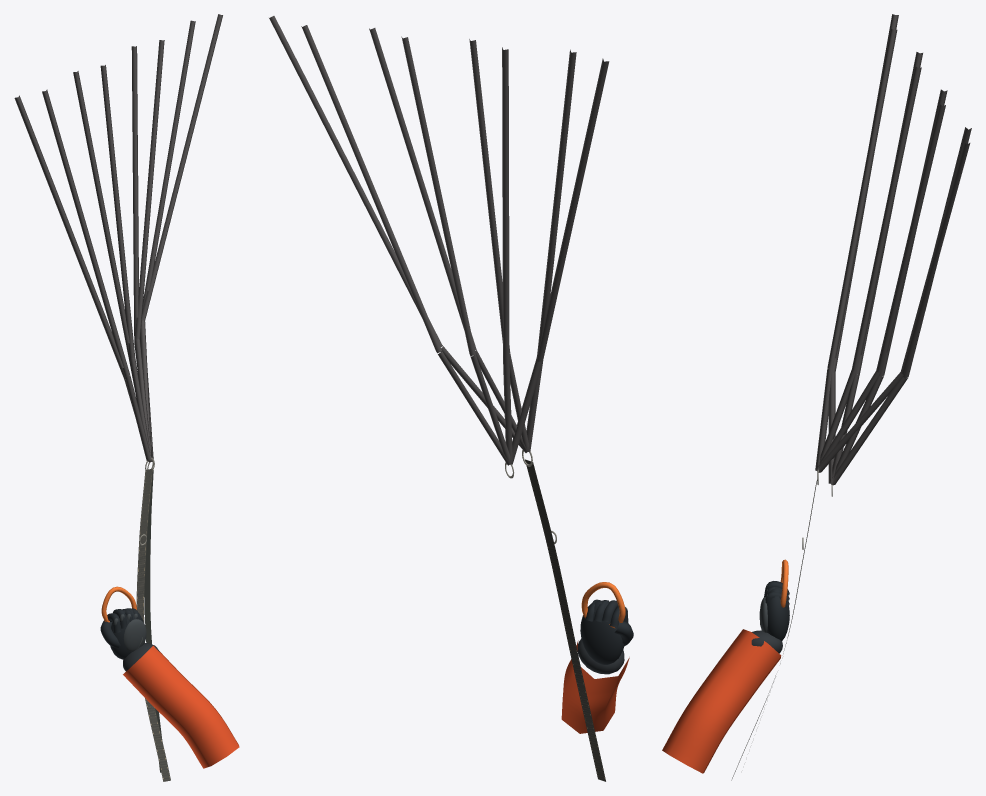
Rendered from RightRiser.glb.
3 renders of one model, left to right at view 1: azimuth 30°, elevation 25°; view 2: azimuth 150°, elevation 25°; view 3: azimuth 270°, elevation 25°, orthographic. The views are drawn at different scales.
Parts seen in each view (by area): view 1: RightRiser; view 2: RightRiser; view 3: RightRiser.
Boxes of the visible parts, x1=… form: RightRiser: x1=14, y1=14, x2=239, y2=781; RightRiser: x1=269, y1=16, x2=633, y2=781; RightRiser: x1=662, y1=14, x2=971, y2=780.
Size of the model in its own units: 0.6361 by 1.64 by 0.6363.
10 materials, 1 textured.
